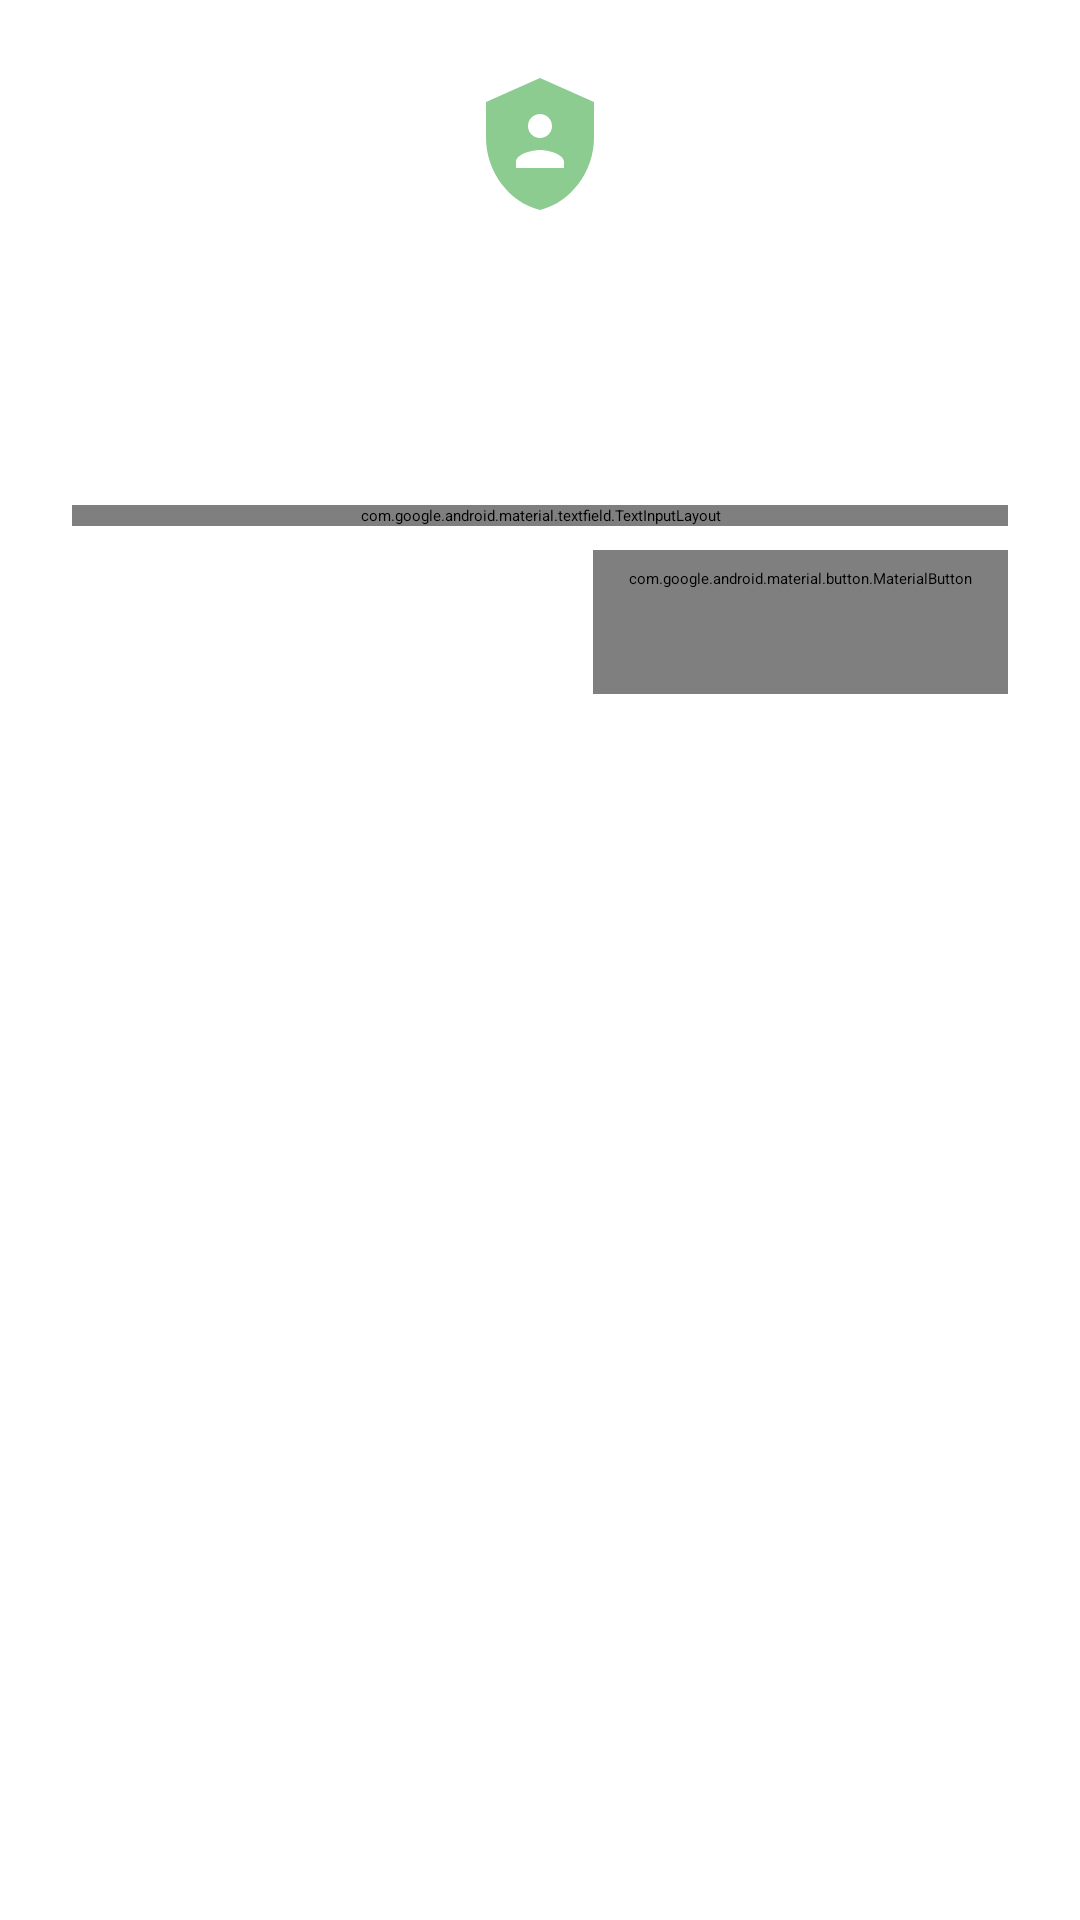

Screen size 1080×1920. Icon name, then its center in pixels as point (x, y):
security shield: point (540, 144)
